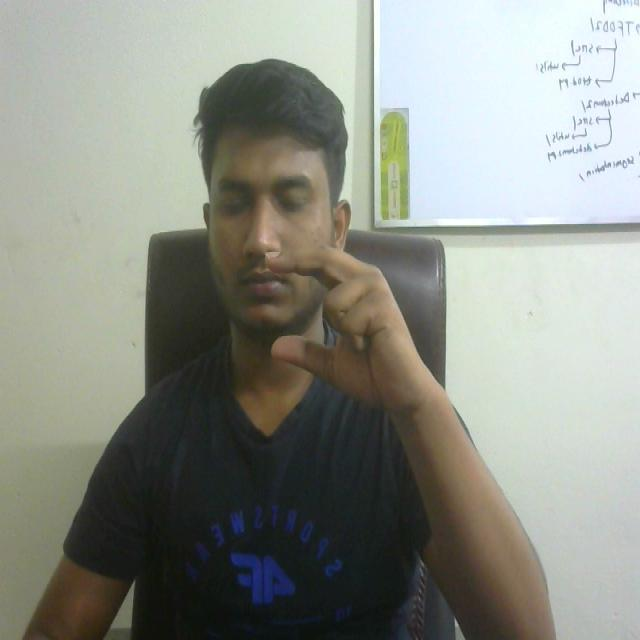D: (253, 228, 430, 445)
